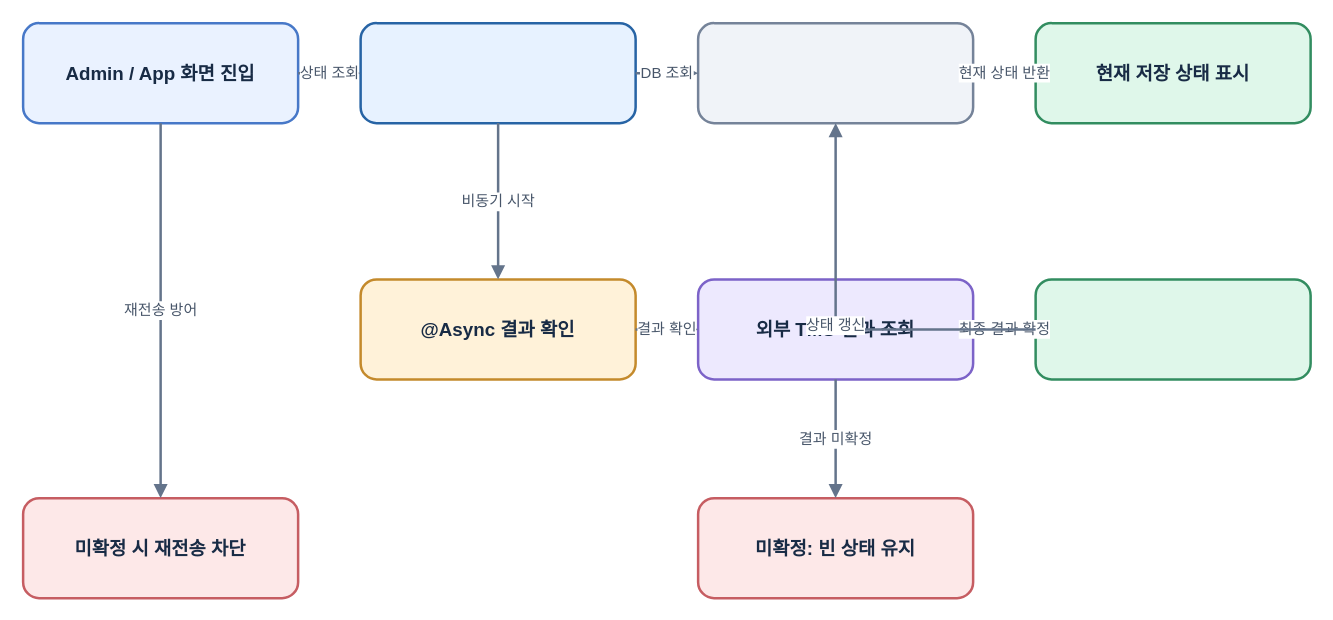
The diagram is 1333 pixels wide and 620 high, and some of its shapes have lost their labels. The centre of each missing label's shape, as x and y in pixels:
Spring Boot 조회 API: the point at 497,72
내부 DB 상태 조회: the point at 835,72
확정 결과 DB 반영: the point at 1172,329
